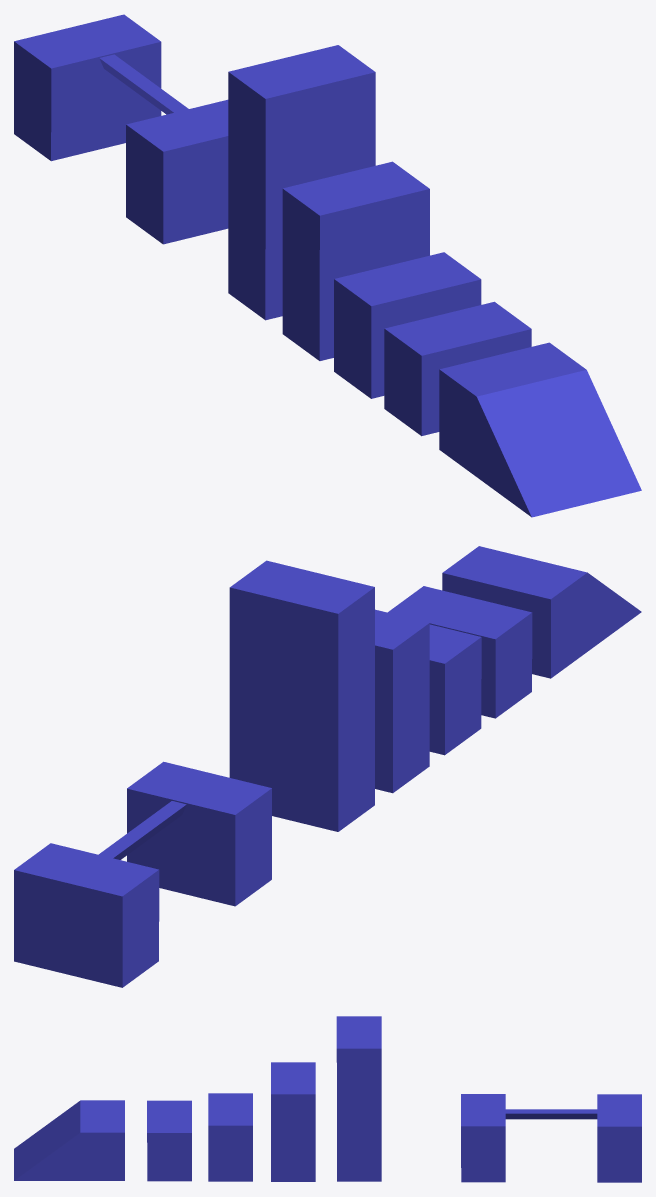
File: Puzzle1.fbx
3 renders of one model, top to bottom at view 1: azimuth 30°, elevation 25°; view 2: azimuth 150°, elevation 25°; view 3: azimuth 270°, elevation 25°, orthographic. The views are drawn at different scales.
Visible parts, largest first — view 1: Cube.009; view 2: Cube.009; view 3: Cube.009.
Part boxes in pixels (x1,y1,x2,y2): Cube.009: (14, 14, 641, 517); Cube.009: (14, 546, 641, 987); Cube.009: (14, 1016, 641, 1182).
Size of the model in its own units: 355 by 658 by 2804.
